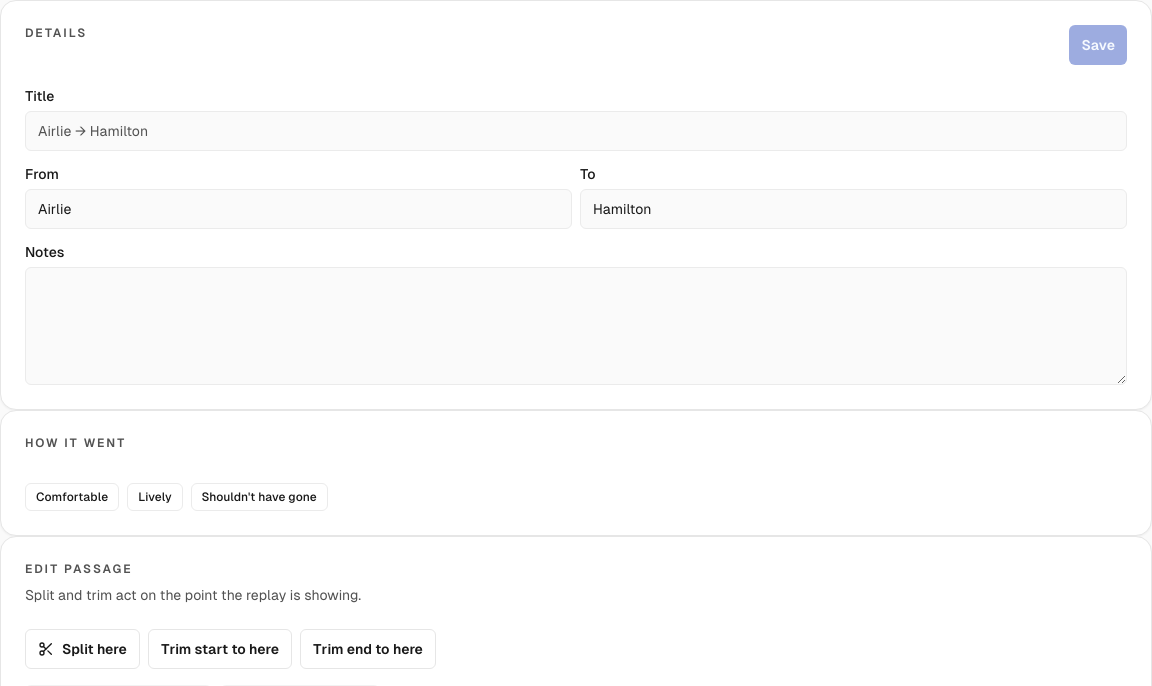
Test case: How it went › ignores a second press while a save is in flight and locks the buttons
Click the button "Lively": (155, 497) x1=127 y1=483 x2=183 y2=511
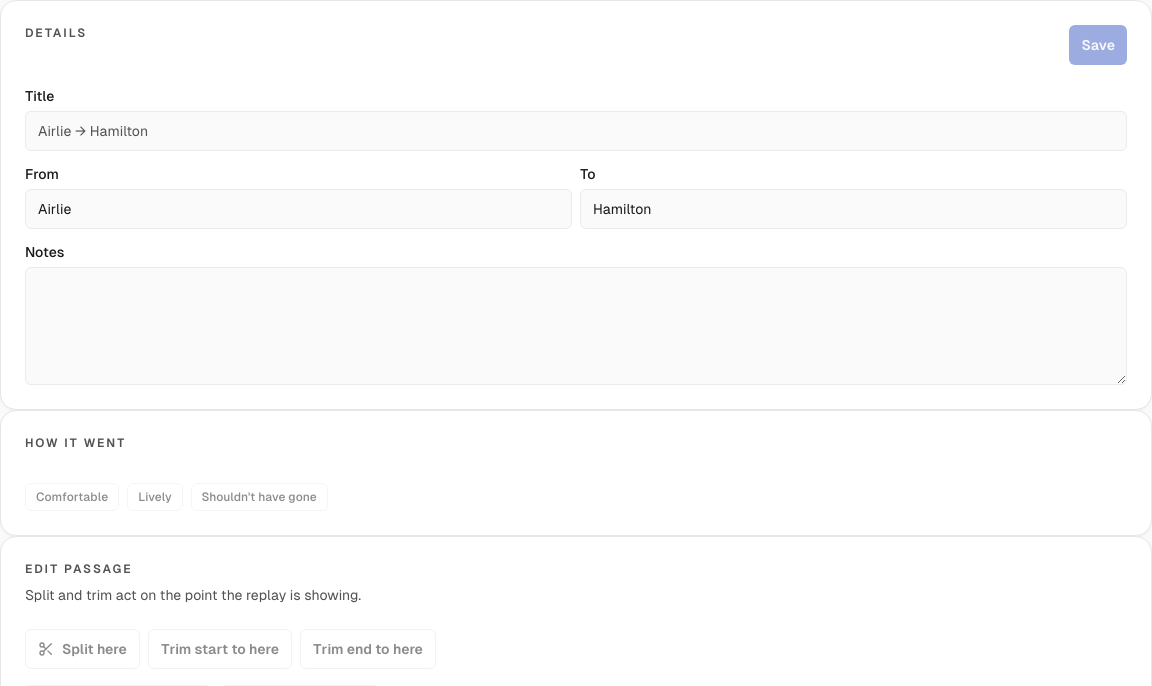
Now the button "Comfortable" is disabled
Click the button "Comfortable": (72, 497) x1=25 y1=483 x2=119 y2=511
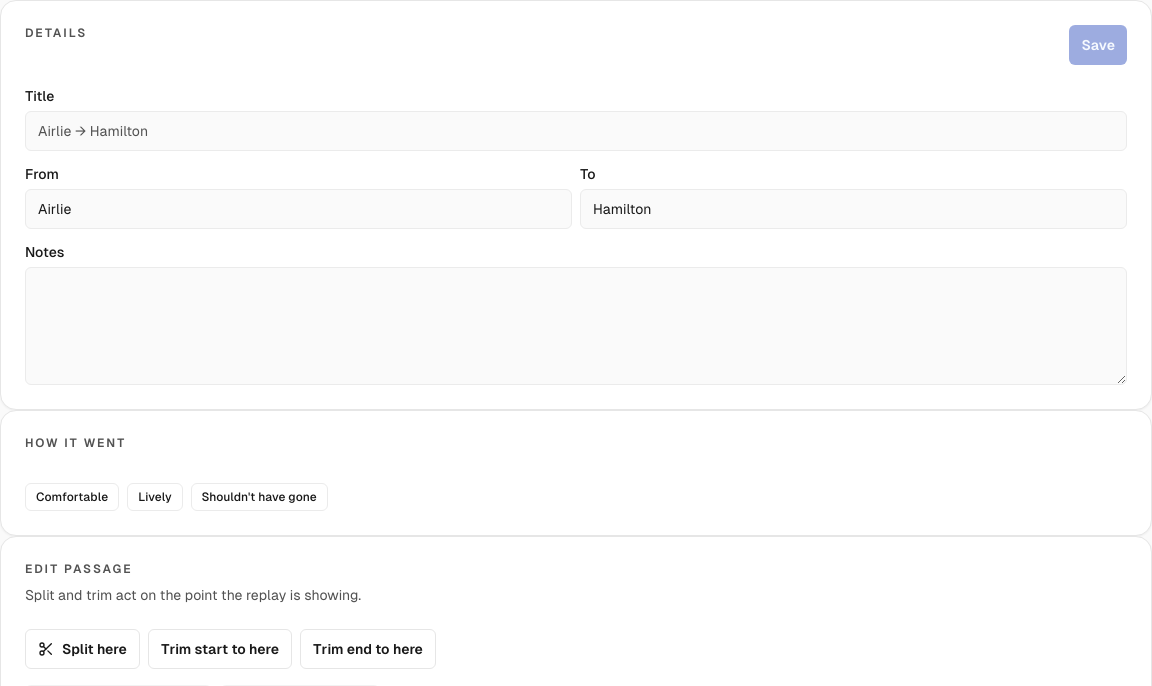
Now the button "Comfortable" is enabled, box x1=25 y1=483 x2=119 y2=511
